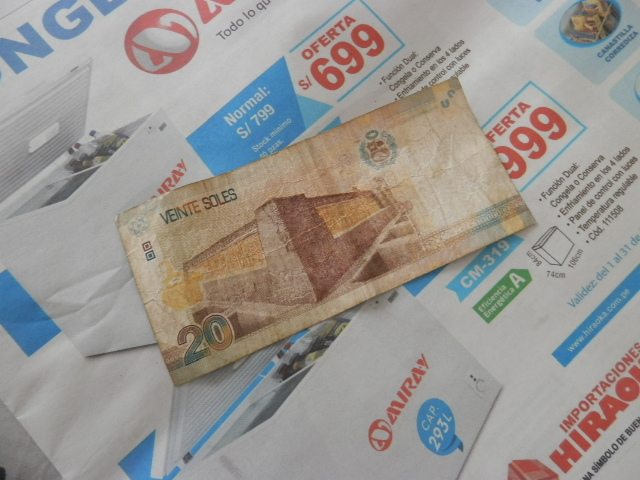B20: (115, 111, 532, 370)
